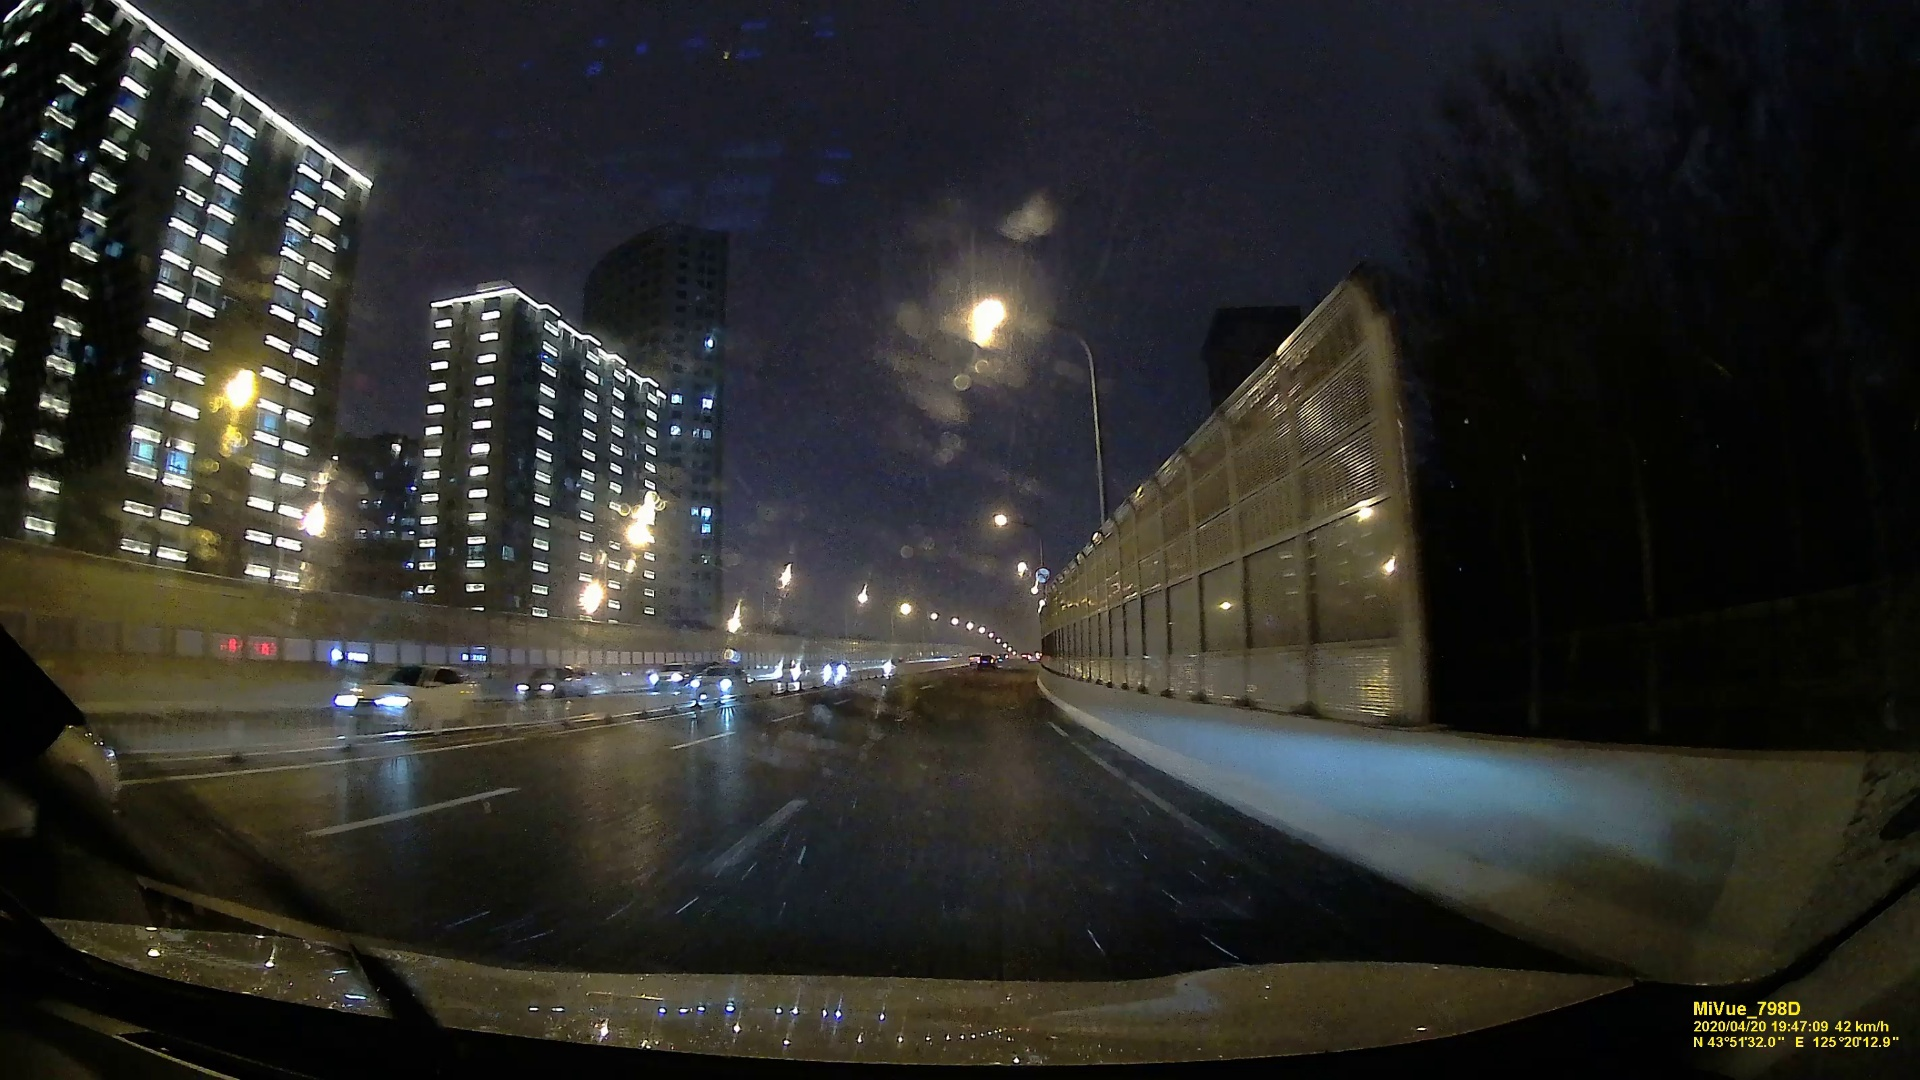traffic_sign: (1036, 567, 1048, 582)
vehicle: (334, 662, 483, 735), (512, 666, 588, 699), (691, 666, 750, 694), (651, 661, 688, 687), (820, 661, 852, 680), (977, 653, 997, 670)
